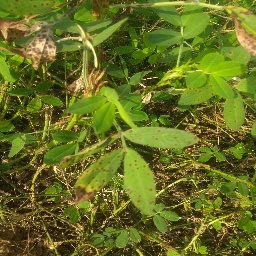GroundNut_Leaf: (69, 151, 121, 205), (124, 149, 157, 216), (122, 125, 204, 149), (29, 29, 56, 70), (183, 12, 211, 42), (65, 96, 107, 115), (146, 28, 181, 47), (95, 105, 117, 134), (197, 49, 222, 74), (117, 226, 141, 249), (212, 75, 233, 101), (217, 61, 245, 75), (53, 130, 78, 142)
